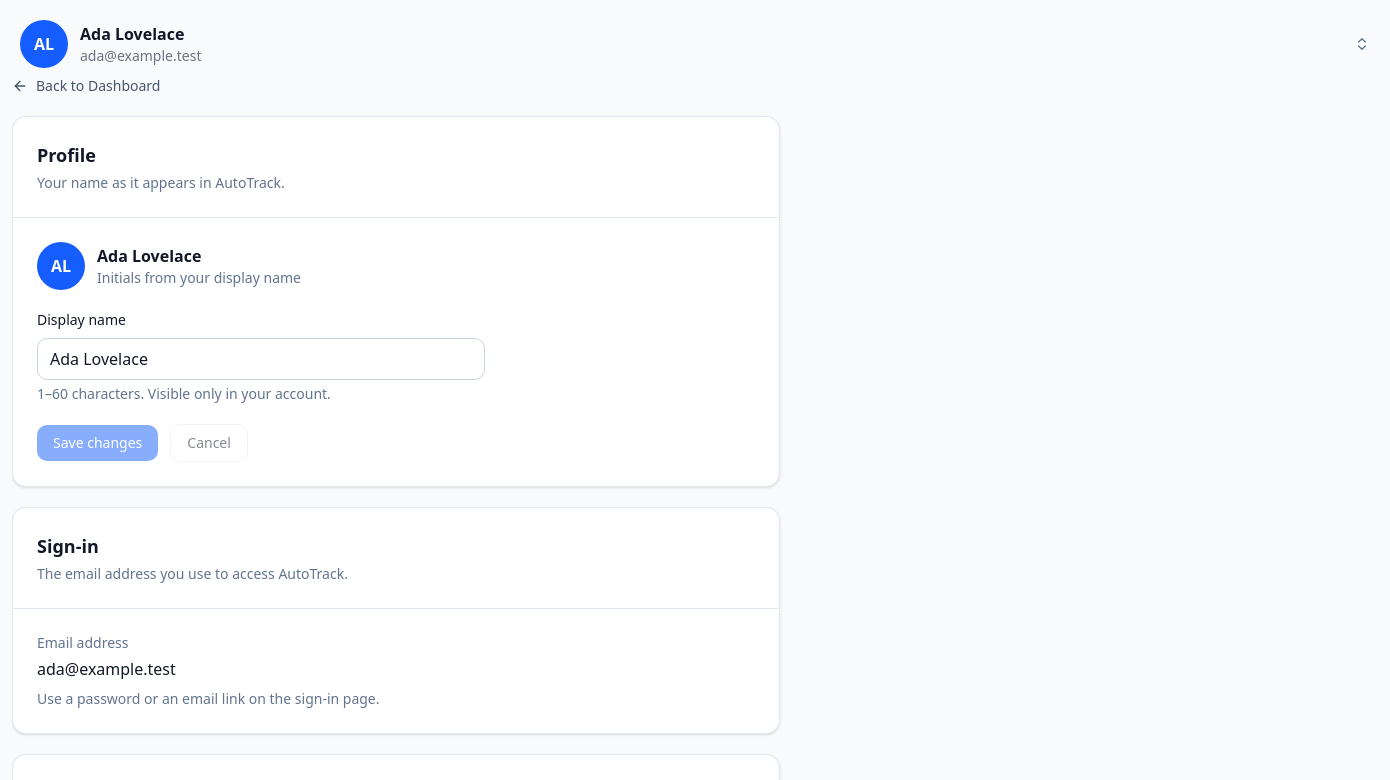
Test: account settings › validates, saves and updates the sidebar identity
The image size is (1390, 780).
Clear the field labelled "Display name": (261, 359) x1=37 y1=338 x2=485 y2=380
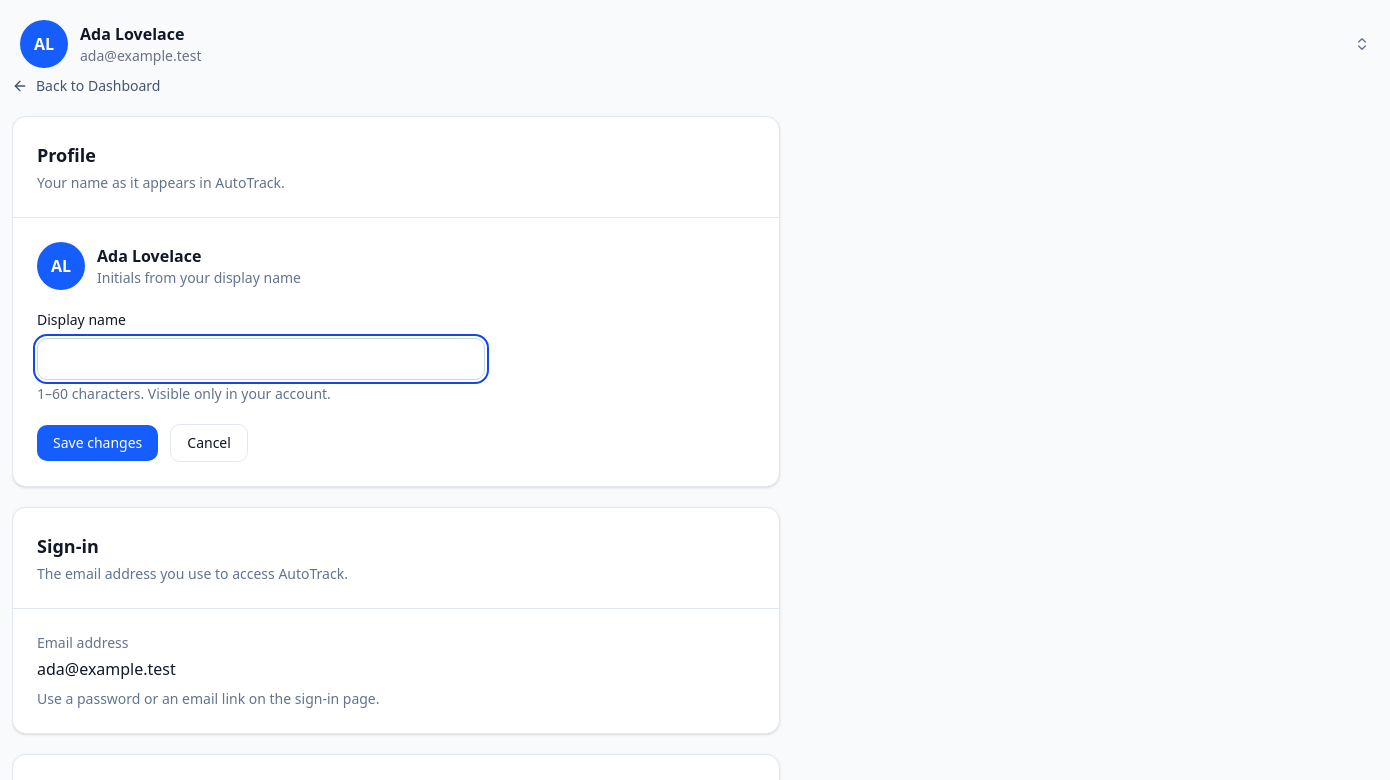
Click the button "Save changes": click(98, 443) x1=37 y1=425 x2=158 y2=461
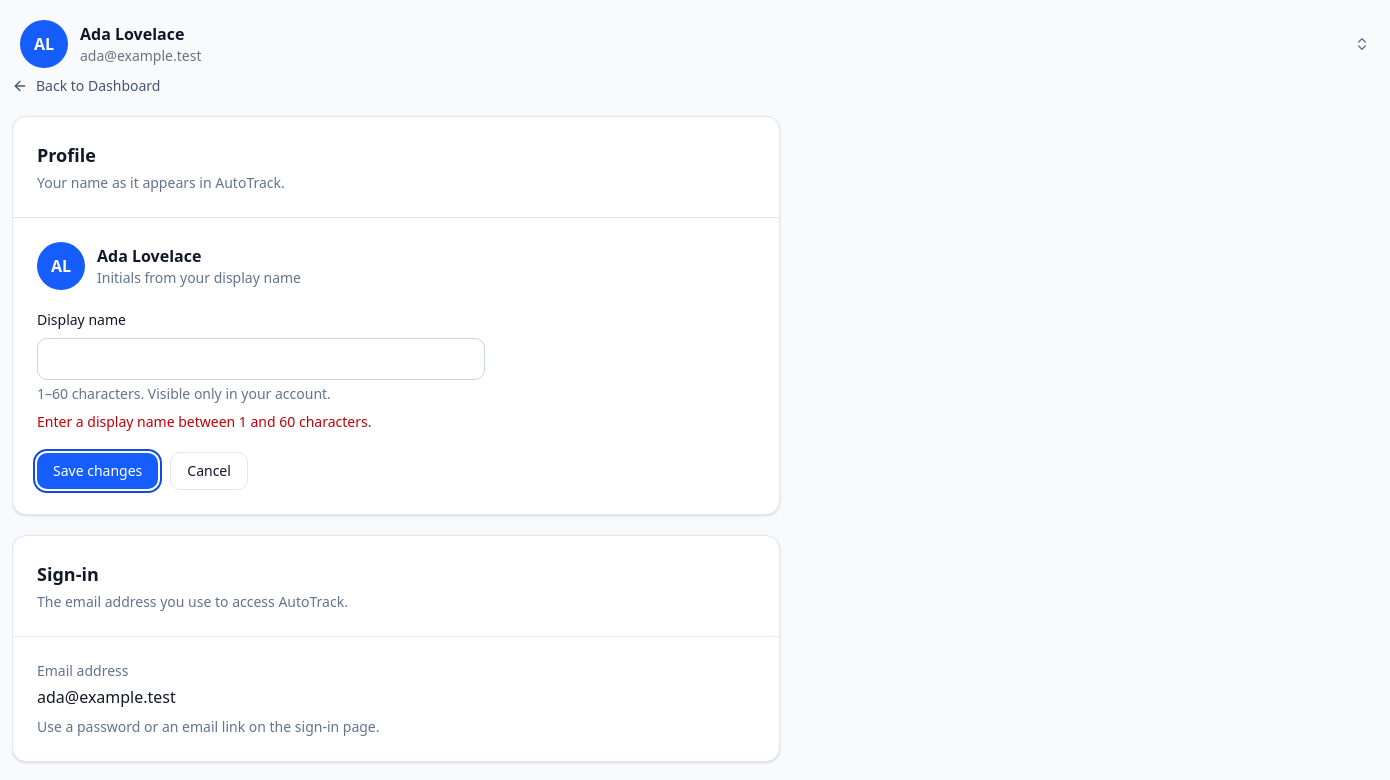
Expected: the message shows "between 1 and 60", x1=37 y1=412 x2=371 y2=431
In the field labelled "Display name": (261, 359) x1=37 y1=338 x2=485 y2=380, type "  Grace Hopper  "
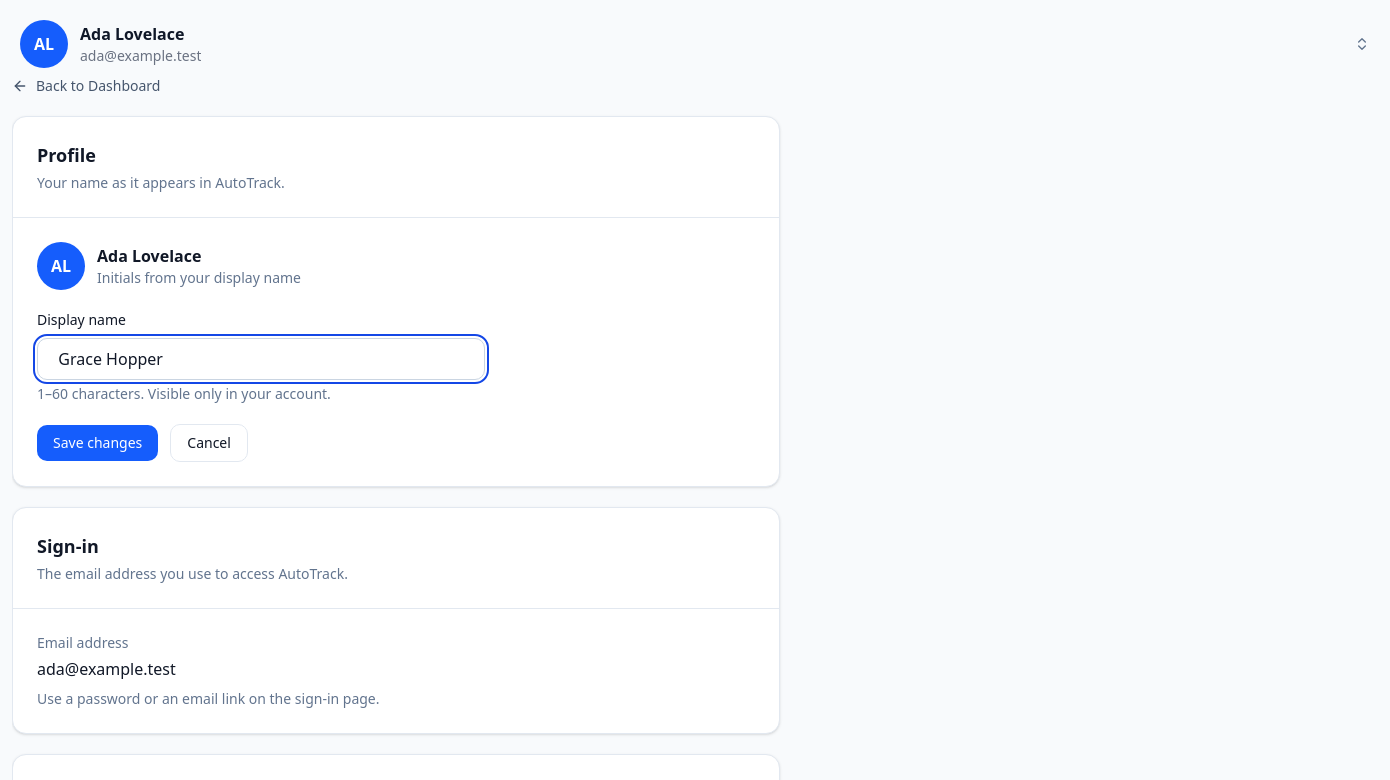
Click the button "Save changes": click(98, 443) x1=37 y1=425 x2=158 y2=461
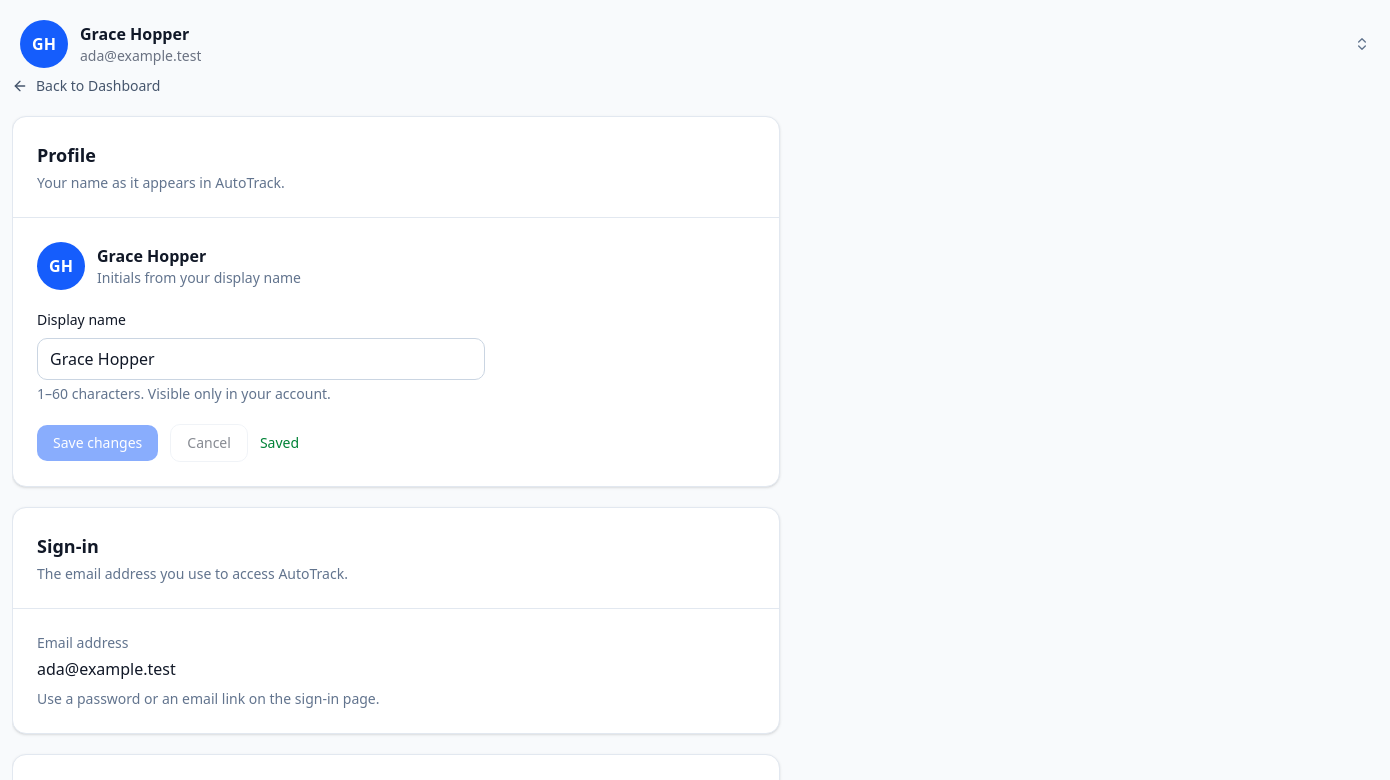
Expected: the text "Grace Hopper" is shown 2 times, x1=80 y1=22 x2=202 y2=46; x1=97 y1=245 x2=206 y2=267
Expected: the message reads "Saved", x1=260 y1=433 x2=299 y2=452
